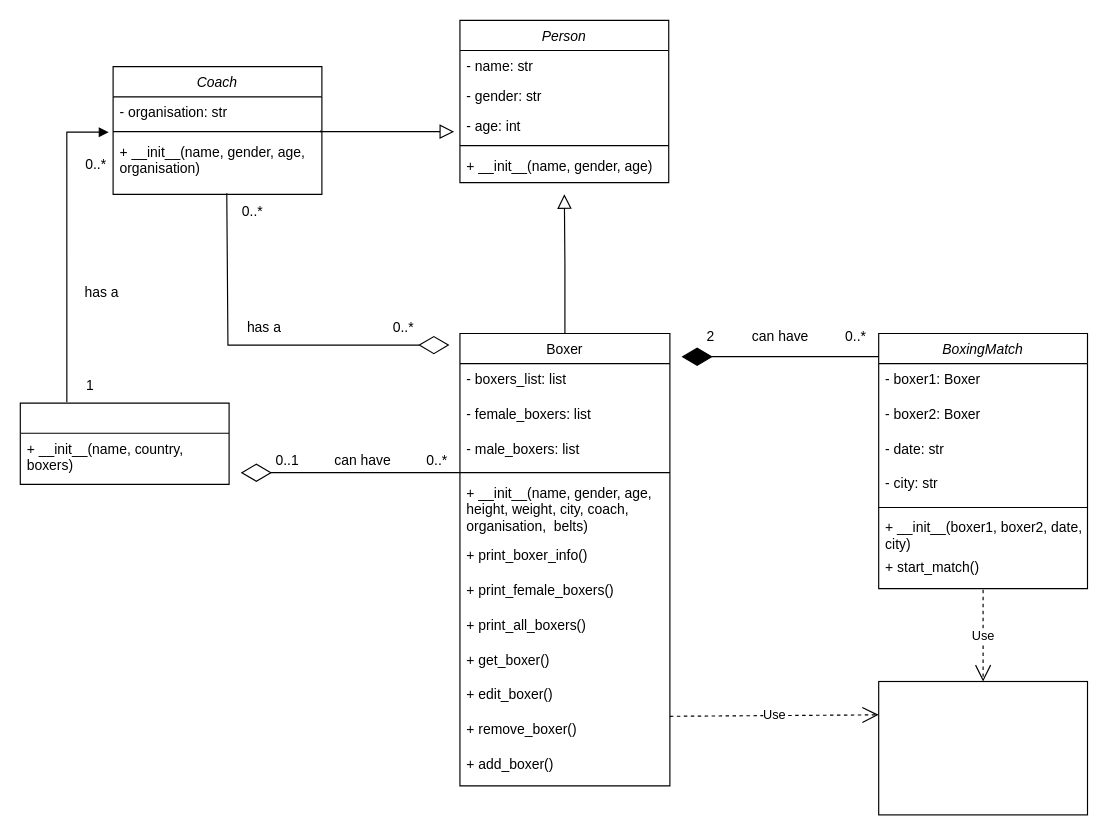
The diagram is 1108 pixels wide and 835 high, and some of its shapes have lost their labels. Here are the shapes that lost their labels. From the top down, the box of each, then its label:
(19, 402, 229, 484): Organisation
(878, 680, 1088, 815): <<Controller >> Menu + user_input1: str + user_input2: str + getMenu()
